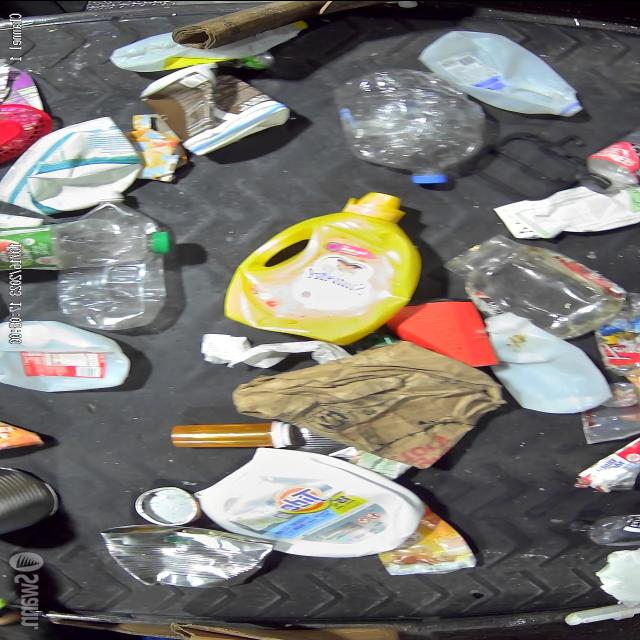can: (95, 523, 262, 590), (132, 484, 194, 526)
milk_jug: (416, 28, 580, 114), (478, 311, 606, 413), (0, 322, 124, 392)
non_white_jug: (220, 194, 413, 340)
plastic_bottle: (332, 70, 479, 184), (46, 190, 168, 326), (5, 220, 158, 270)
